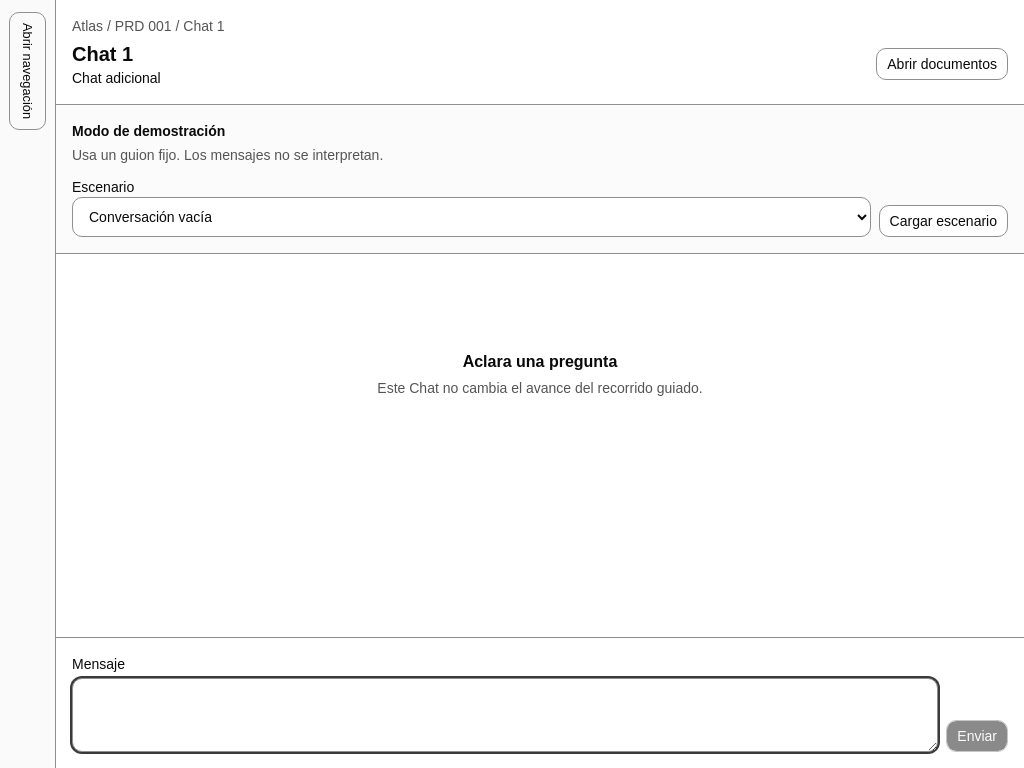
Test case: WorkspaceShell › preserva un borrador real ante una fuente aceptada nueva y descarta hacia la autoridad nueva
Click the button "Abrir documentos" at (942, 64), box x1=876 y1=48 x2=1008 y2=80
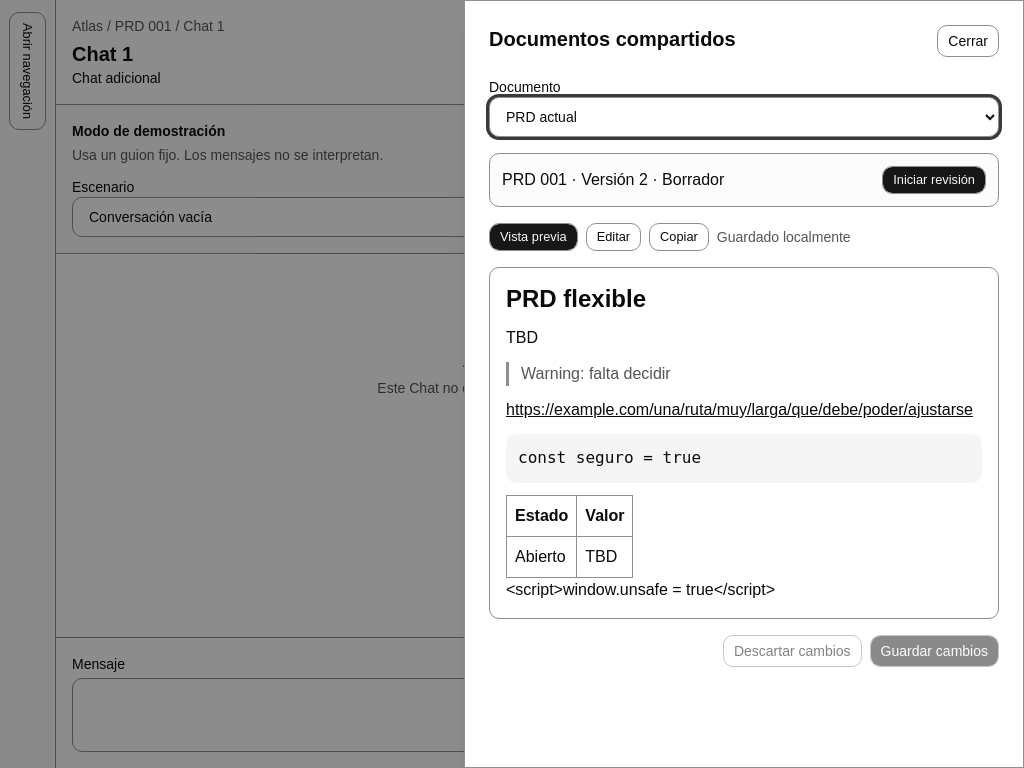
Click the tab "Editar" at (613, 237), box x1=586 y1=223 x2=641 y2=251
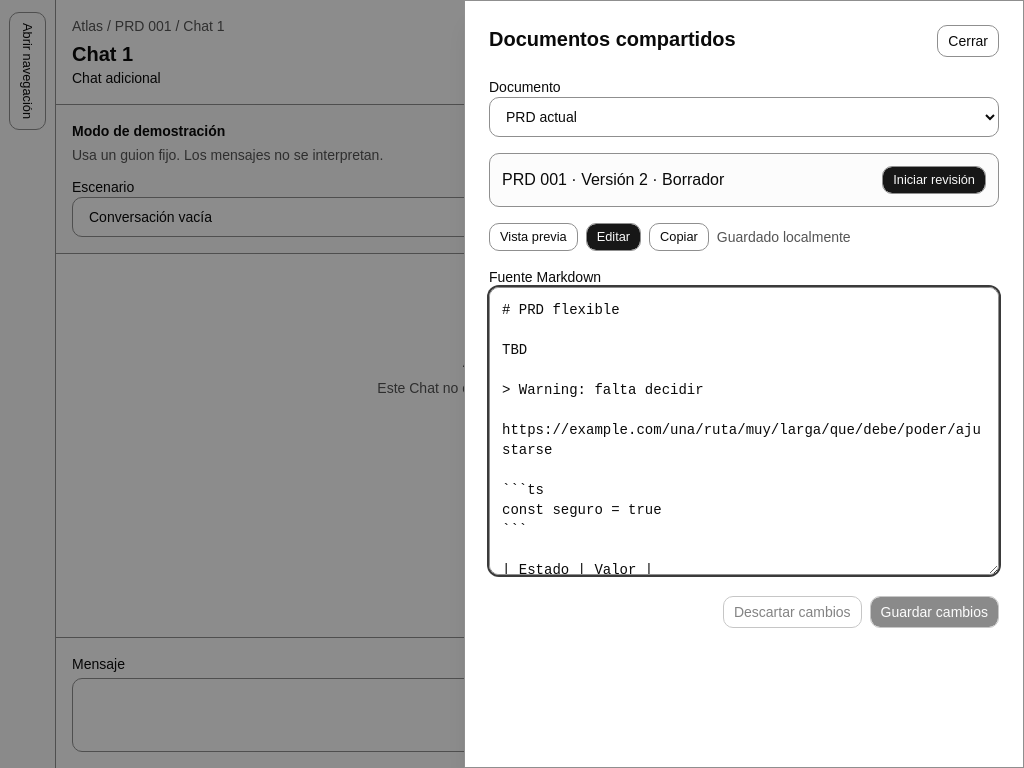
Replace the text in the text box labelled "Fuente Markdown" with "# Borrador local pendiente" at (744, 431), box x1=489 y1=287 x2=999 y2=575
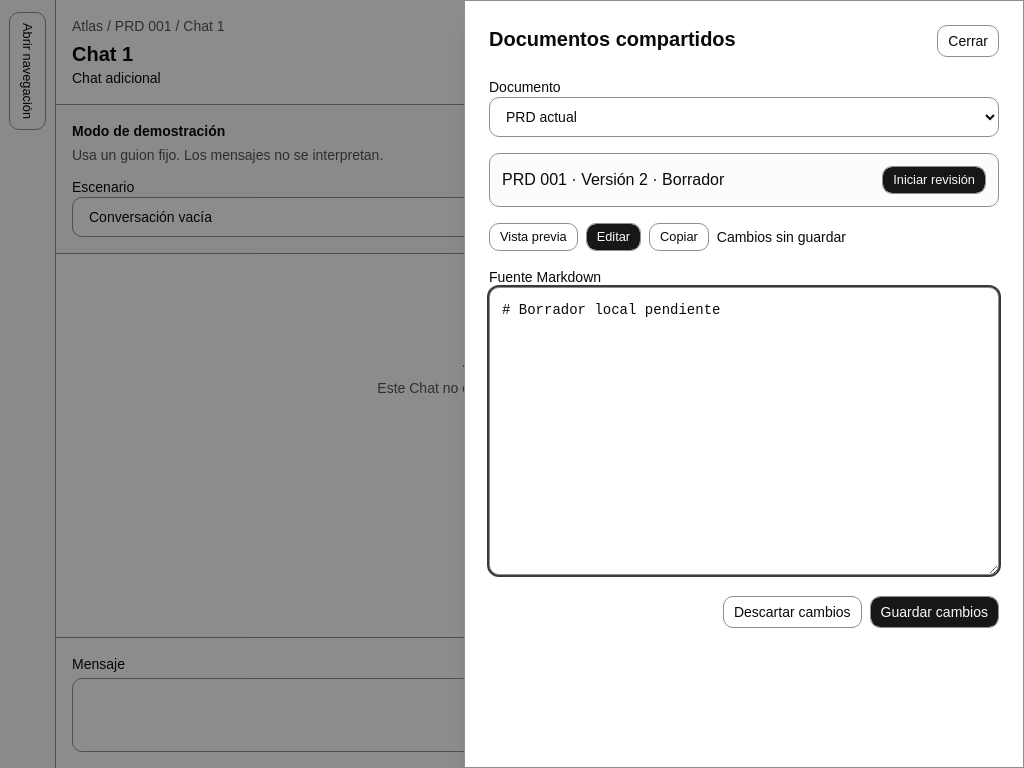
Result: the text "Cambios sin guardar" is shown at x1=717 y1=227 x2=846 y2=247
Click the button "Descartar cambios" at (792, 612), box x1=723 y1=596 x2=862 y2=628
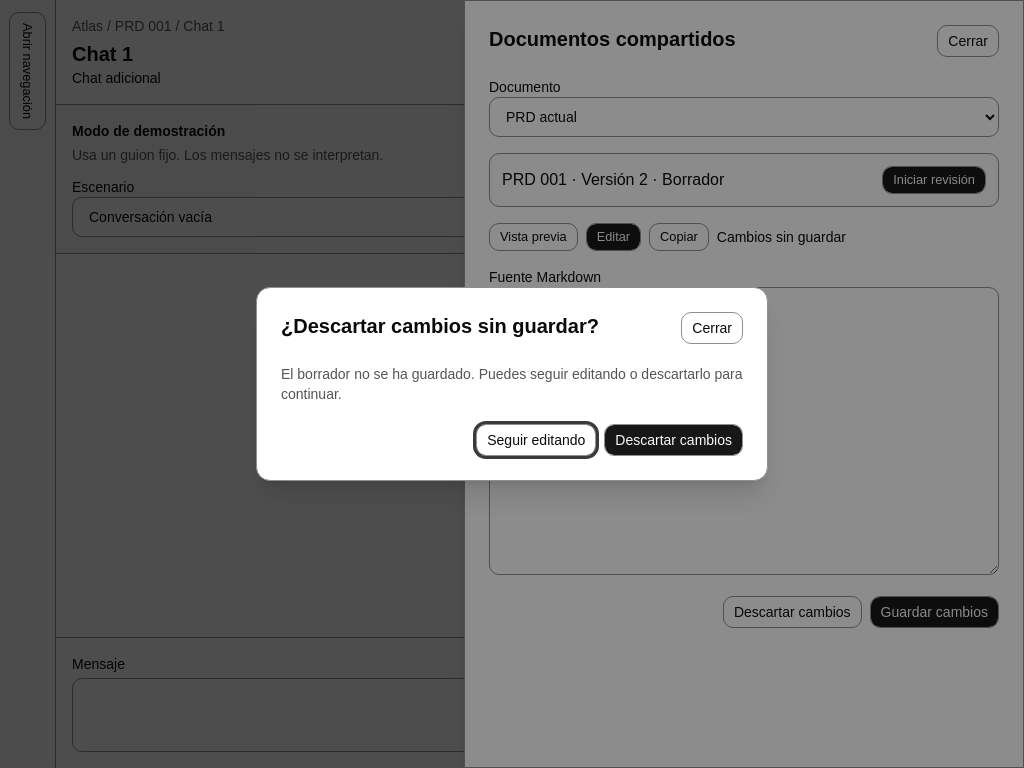
Click the button "Descartar cambios" at (674, 440), box x1=604 y1=424 x2=743 y2=456
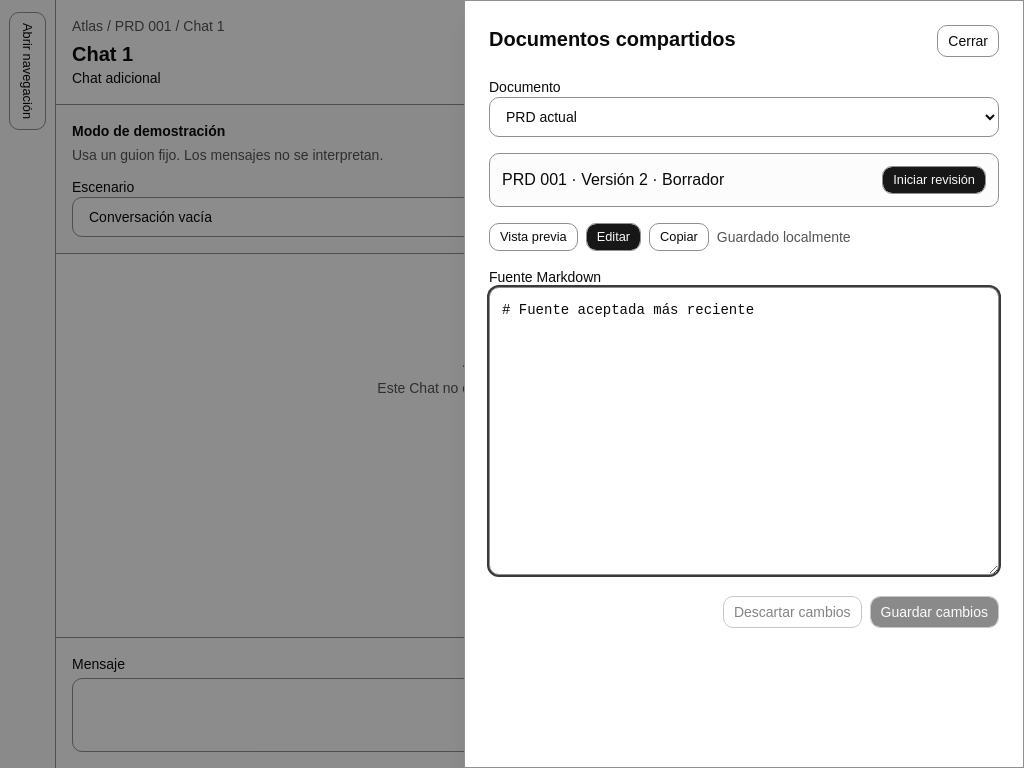
Result: the text box labelled "Fuente Markdown" holds "# Fuente aceptada más reciente" at x1=489 y1=287 x2=999 y2=575
